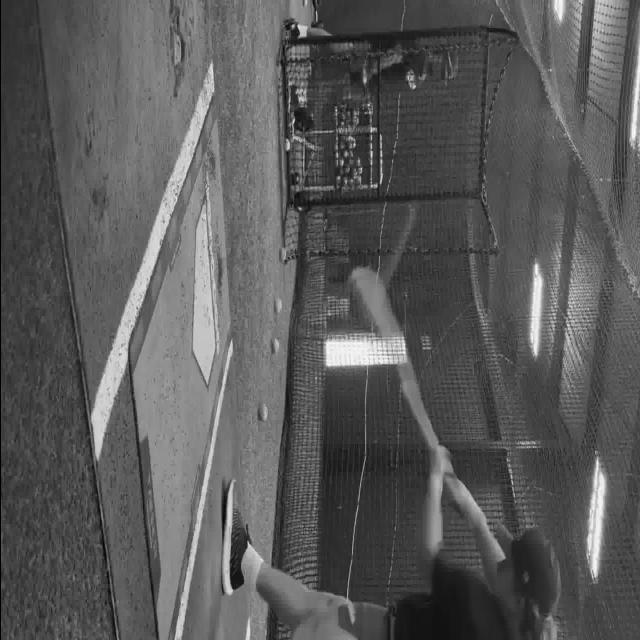base: (186, 207, 214, 387)
baseball: (257, 402, 267, 421), (274, 296, 282, 312), (270, 338, 278, 354), (279, 247, 285, 262), (284, 138, 290, 150)
baseball_glove: (424, 442, 452, 494)
bat: (352, 276, 454, 486)
shoe: (221, 478, 252, 595), (288, 85, 306, 112), (282, 17, 300, 43), (361, 54, 373, 86)
